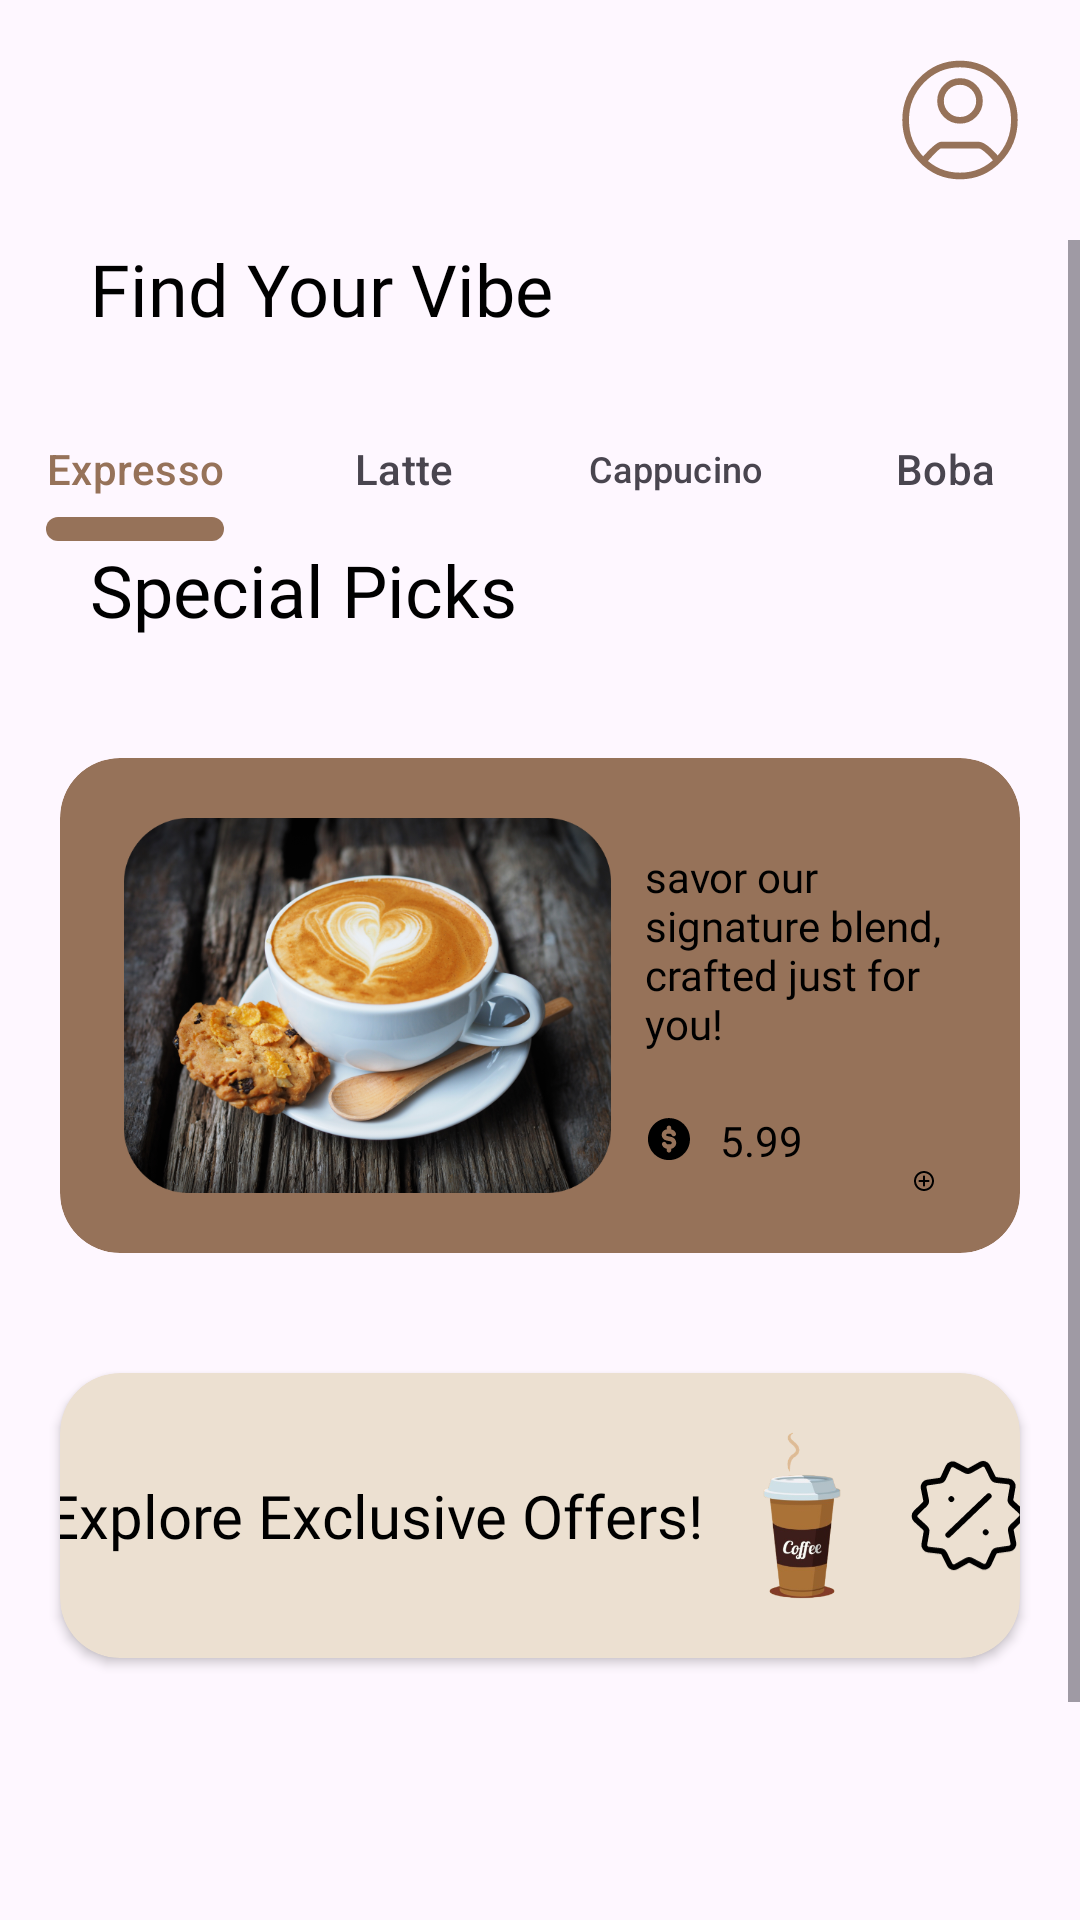

Named icons in this screenshot (1080px x 1920px) and their bounding boxes, [x1, y1, x2, y2]:
dollar coin: [648, 1118, 690, 1160]
tallcofeecup: [765, 1433, 840, 1598]
user profile circle: [902, 60, 1018, 180]
